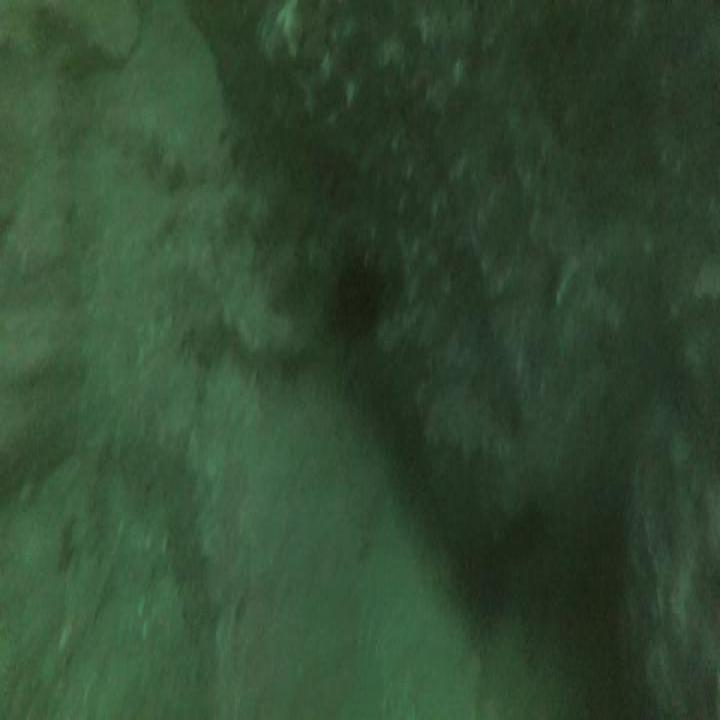starfish: (447, 201, 611, 476)
